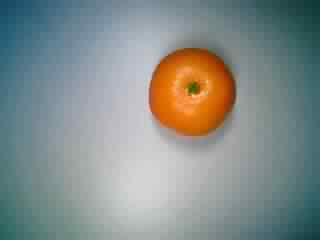orange: (145, 43, 241, 139)
